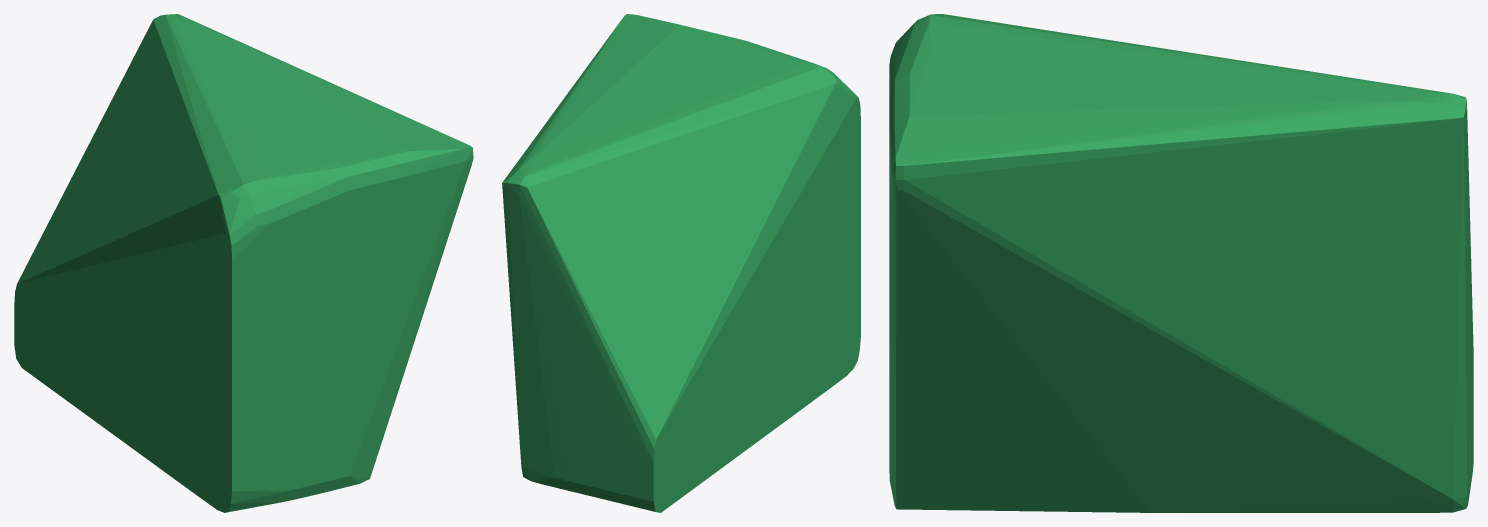
The model's file is right_hip_yaw_link_part_10.obj.
3 renders of one model, left to right at view 1: azimuth 30°, elevation 25°; view 2: azimuth 150°, elevation 25°; view 3: azimuth 270°, elevation 25°, orthographic. The views are drawn at different scales.
Bounding box in the file's own units: 0.0265 × 0.0334 × 0.041.
